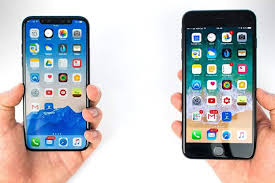iphone: (180, 5, 256, 159), (19, 12, 92, 151)
iphone10: (19, 11, 92, 150)
